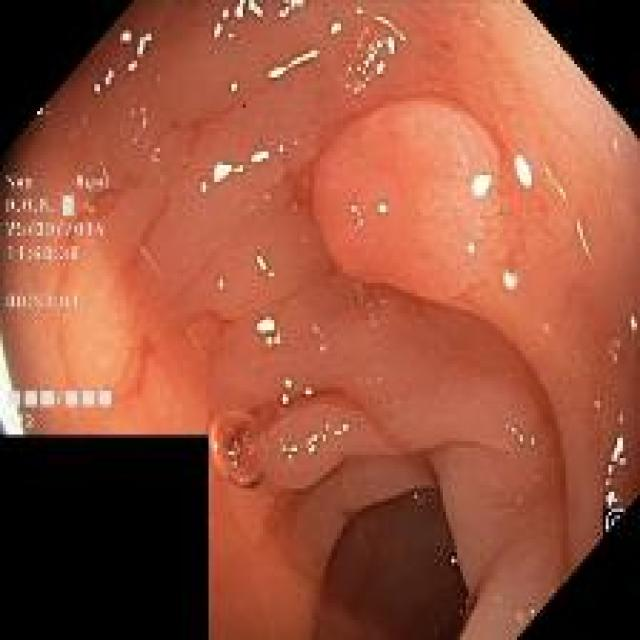Polyps: (312, 102, 508, 303)
